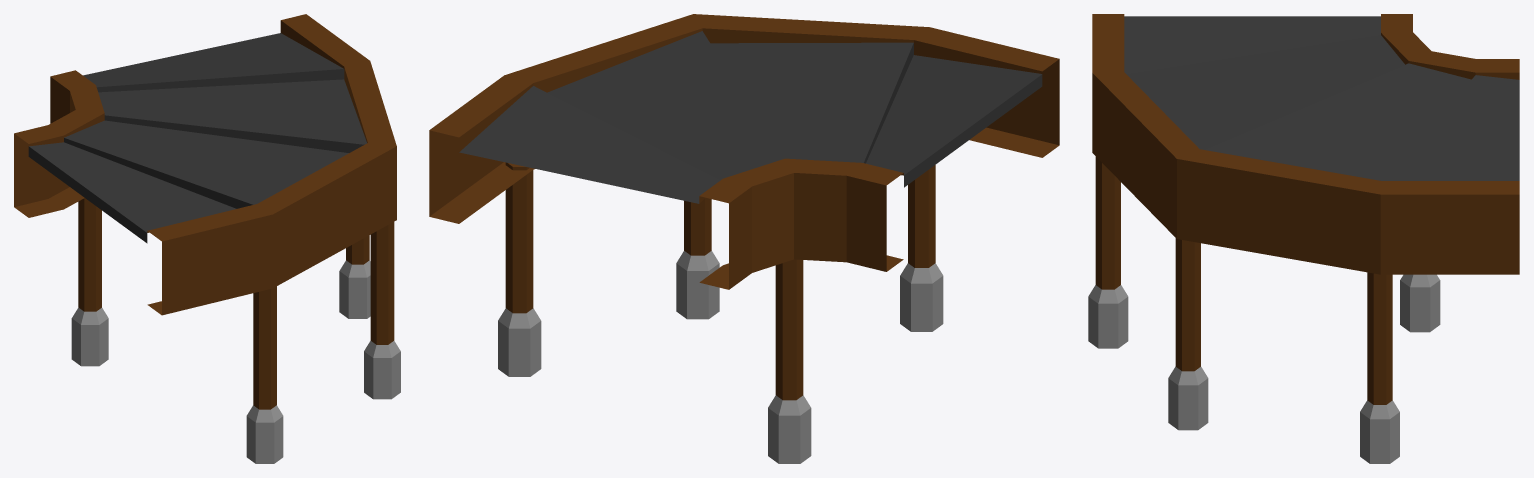
File: CurveBelt.fbx
3 renders of one model, left to right at view 1: azimuth 30°, elevation 25°; view 2: azimuth 150°, elevation 25°; view 3: azimuth 270°, elevation 25°, orthographic. The views are drawn at different scales.
Visible parts, largest first — view 1: Cube.003, Cylinder.001; view 2: Cube.003, Cylinder.001; view 3: Cube.003, Cylinder.001.
Part boxes in pixels (x1,y1,x2,y2): Cube.003: (14, 14, 396, 315); Cylinder.001: (71, 198, 400, 463); Cube.003: (429, 14, 1059, 289); Cylinder.001: (498, 162, 943, 463); Cube.003: (1092, 14, 1519, 274); Cylinder.001: (1088, 156, 1440, 463).
Size of the model in its own units: 201 by 139 by 202.
